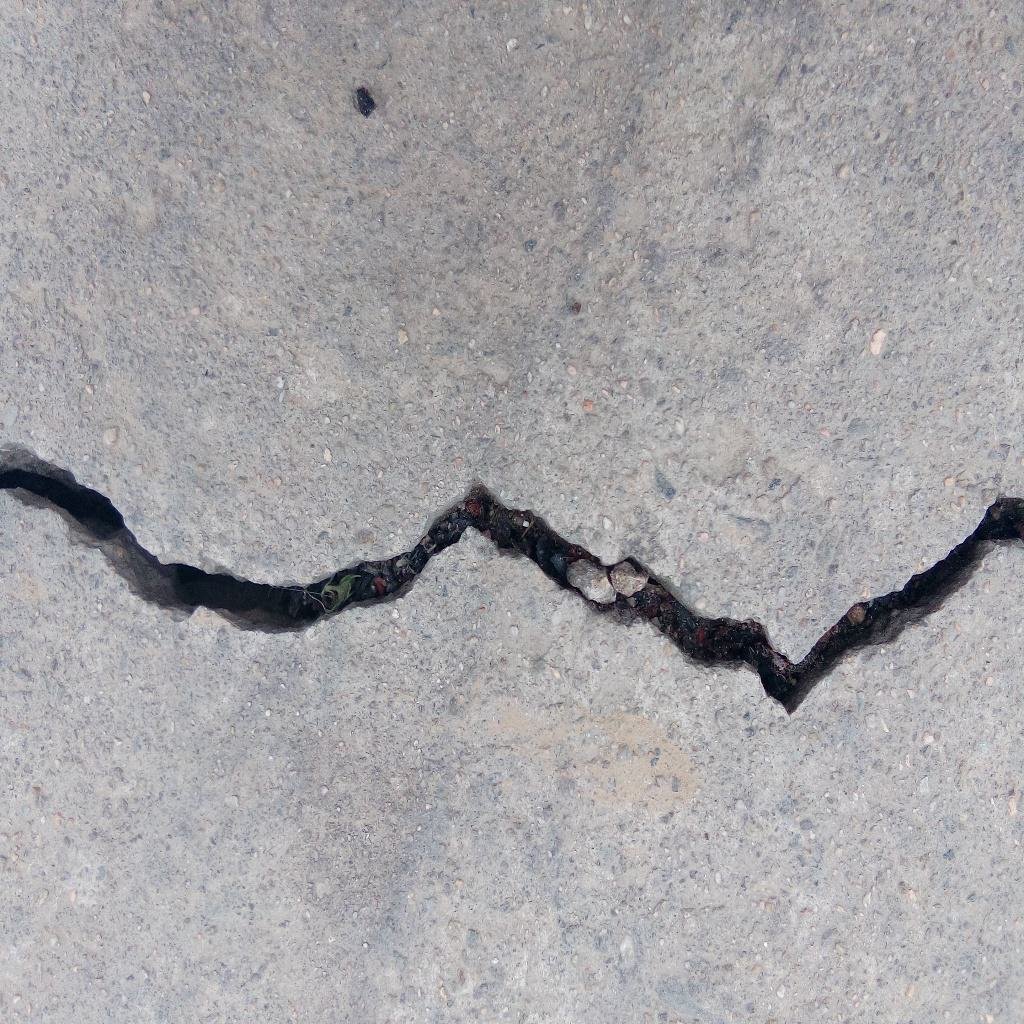Crack: (1, 440, 1024, 716)
